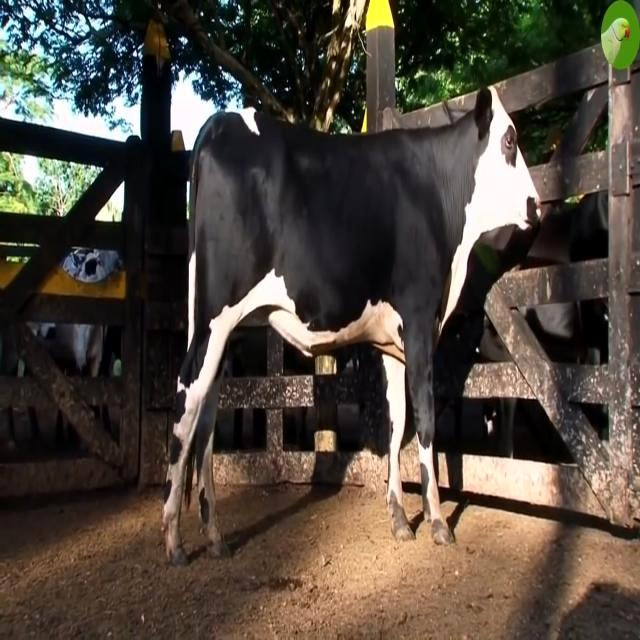COW: (162, 89, 538, 564)
